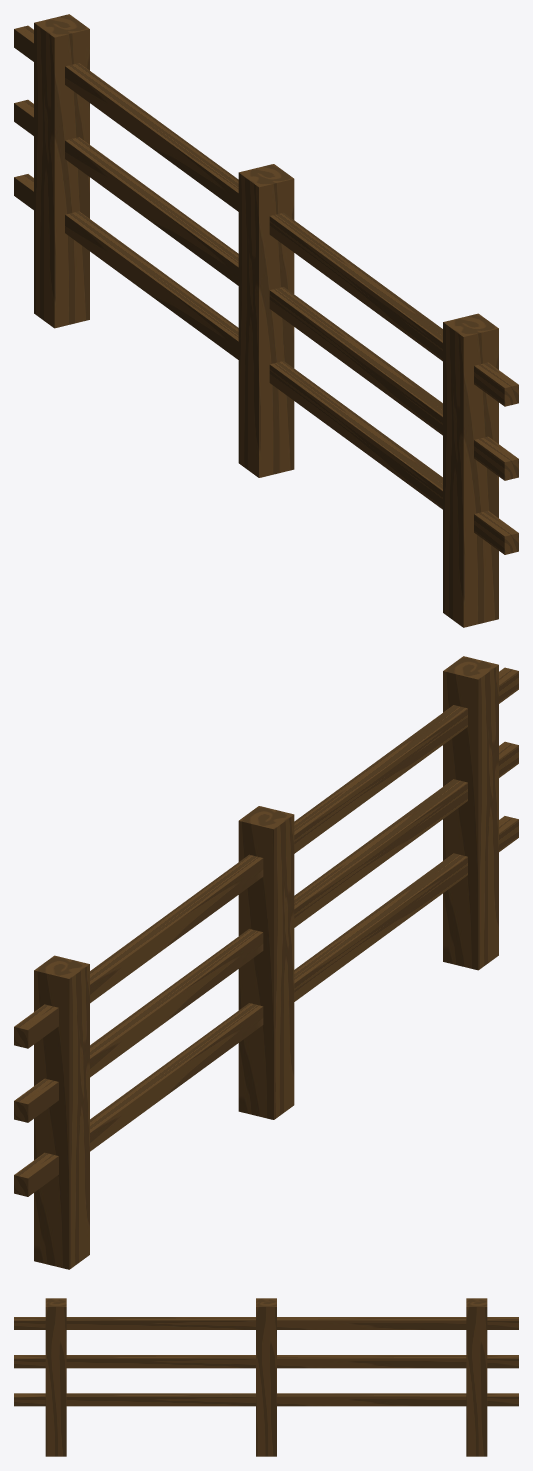
Rendered from cerca low poly.obj.
3 renders of one model, top to bottom at view 1: azimuth 30°, elevation 25°; view 2: azimuth 150°, elevation 25°; view 3: azimuth 270°, elevation 25°, orthographic. The views are drawn at different scales.
Visible parts, largest first — view 1: Cerca:pCube7; view 2: Cerca:pCube7; view 3: Cerca:pCube7.
Part boxes in pixels (<box>): Cerca:pCube7: <box>14,14,518,627</box>; Cerca:pCube7: <box>14,656,518,1269</box>; Cerca:pCube7: <box>14,1298,518,1456</box>.
Size of the model in its own units: 2.5 by 19.61 by 60.
